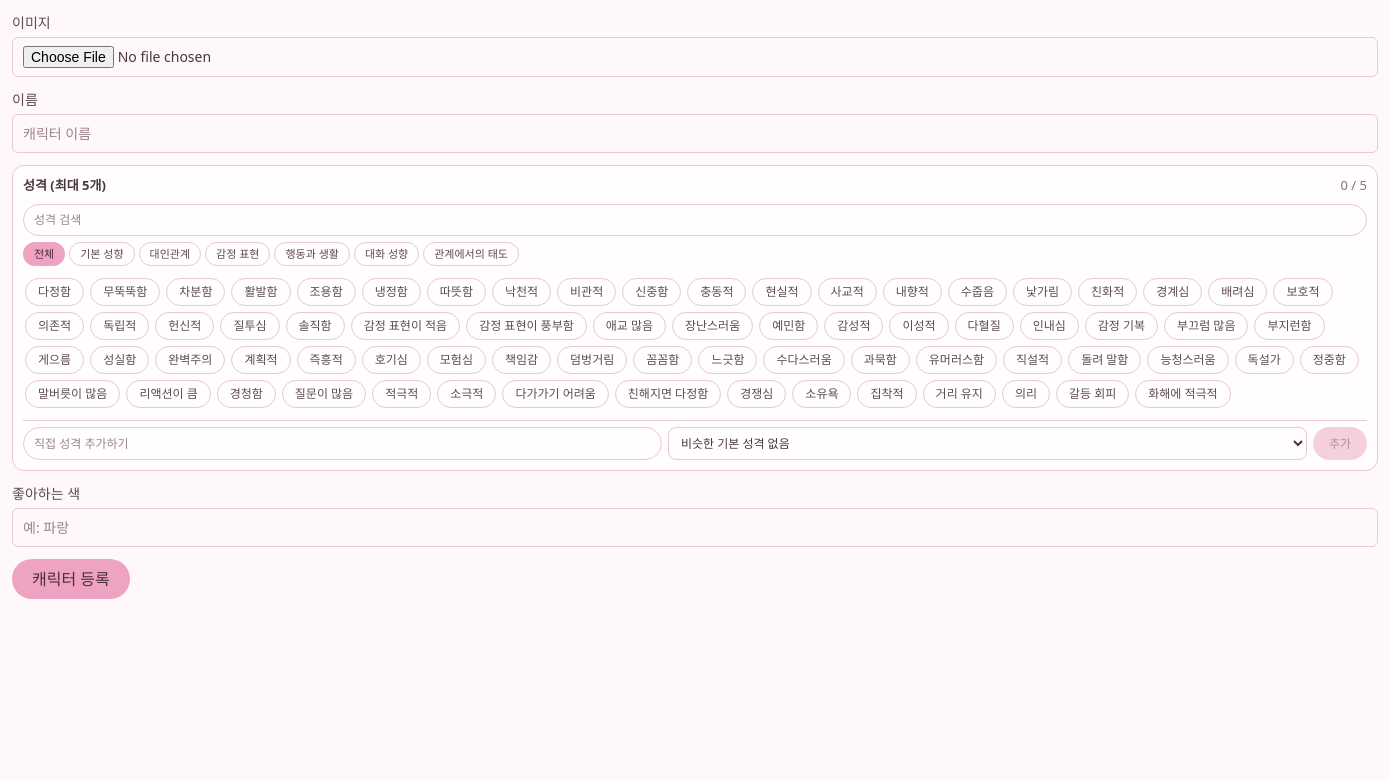
CharacterForm › shows a validation error when the image is missing
Type "Milo" into the field labelled "이름". click: (695, 134)
box: top-left (12, 114), bottom-right (1378, 153)
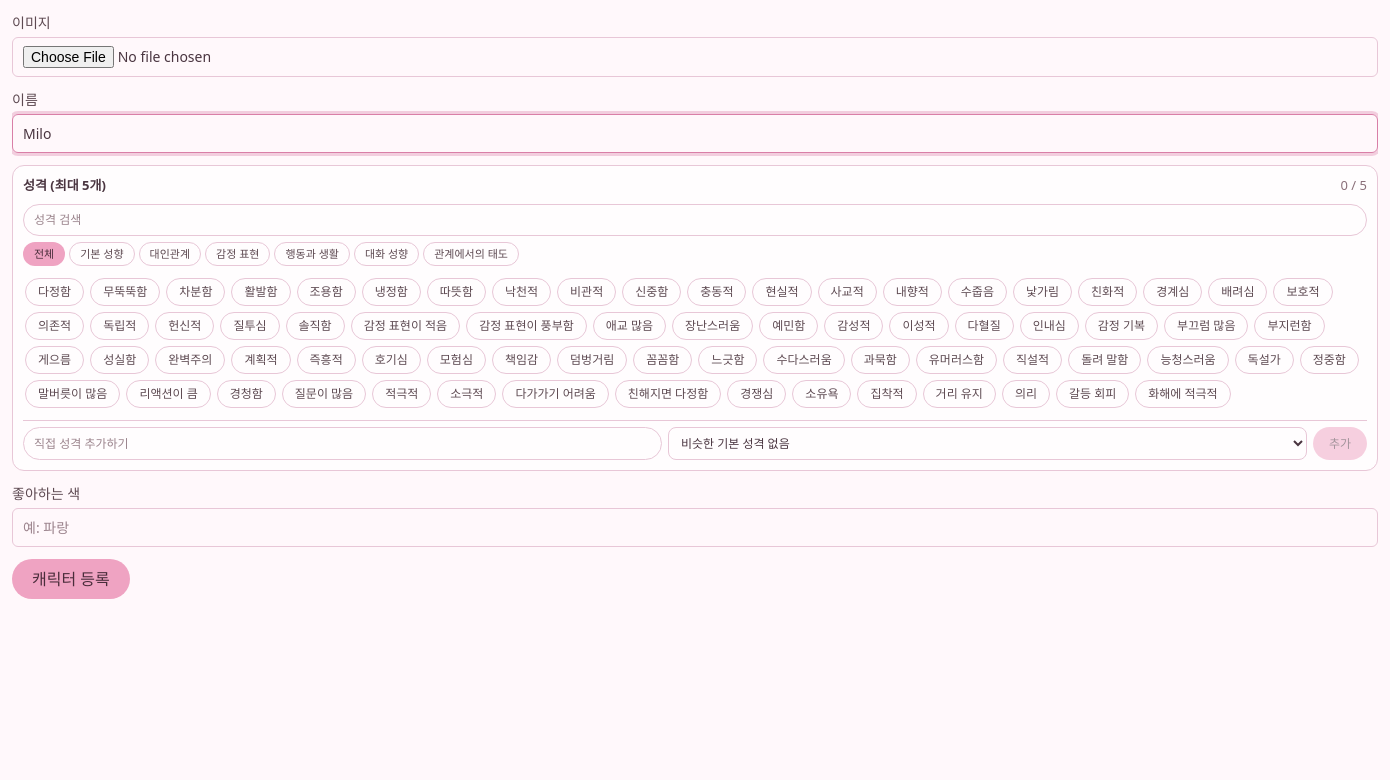
Click the button "캐릭터 등록". click: (71, 579)
box: top-left (12, 559), bottom-right (130, 599)
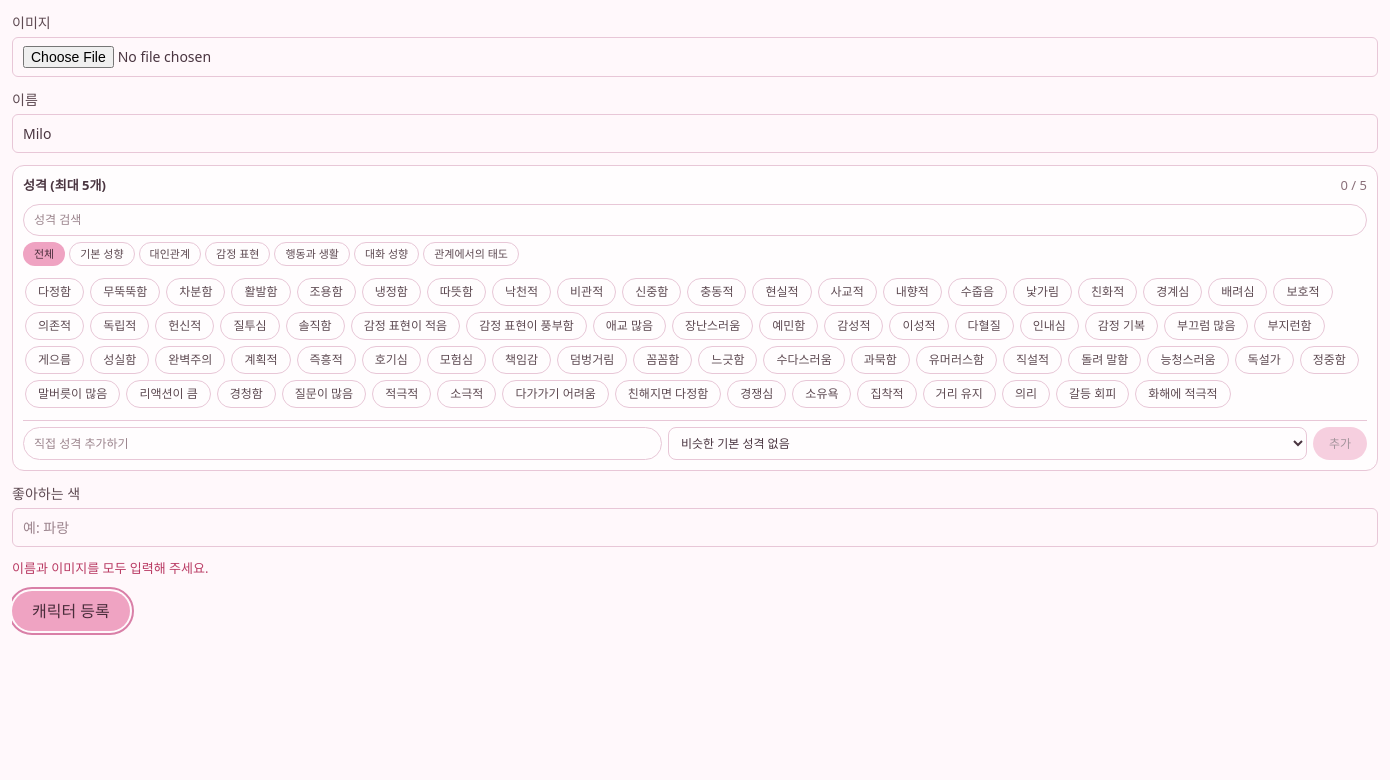
Now the text "이름과 이미지를 모두 입력해 주세요." is shown, box top-left (12, 559), bottom-right (208, 577)
